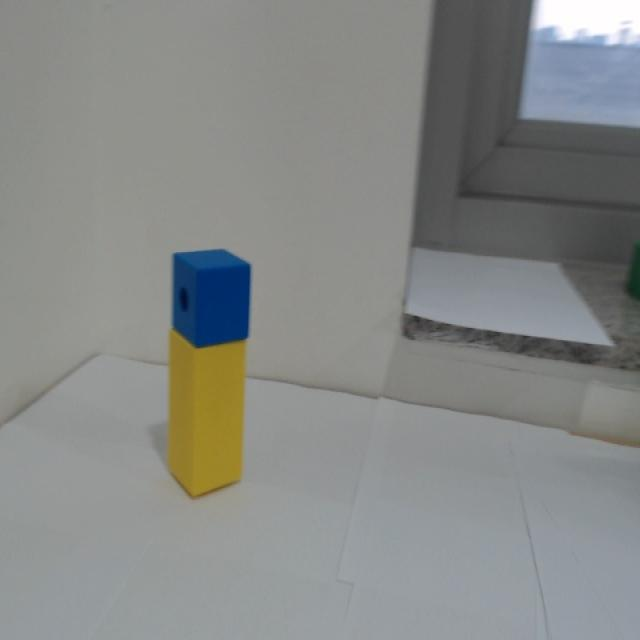cube: (171, 246, 252, 349)
